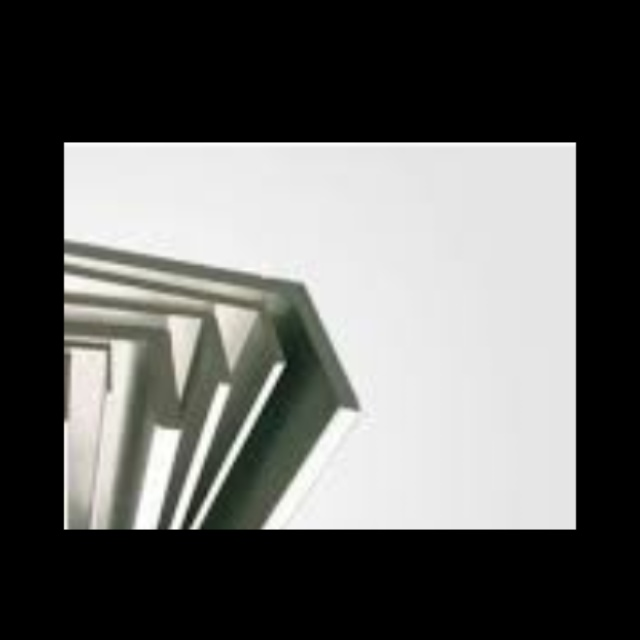Angle: (64, 239, 352, 405), (64, 253, 278, 358), (64, 292, 223, 380), (64, 321, 169, 425)
